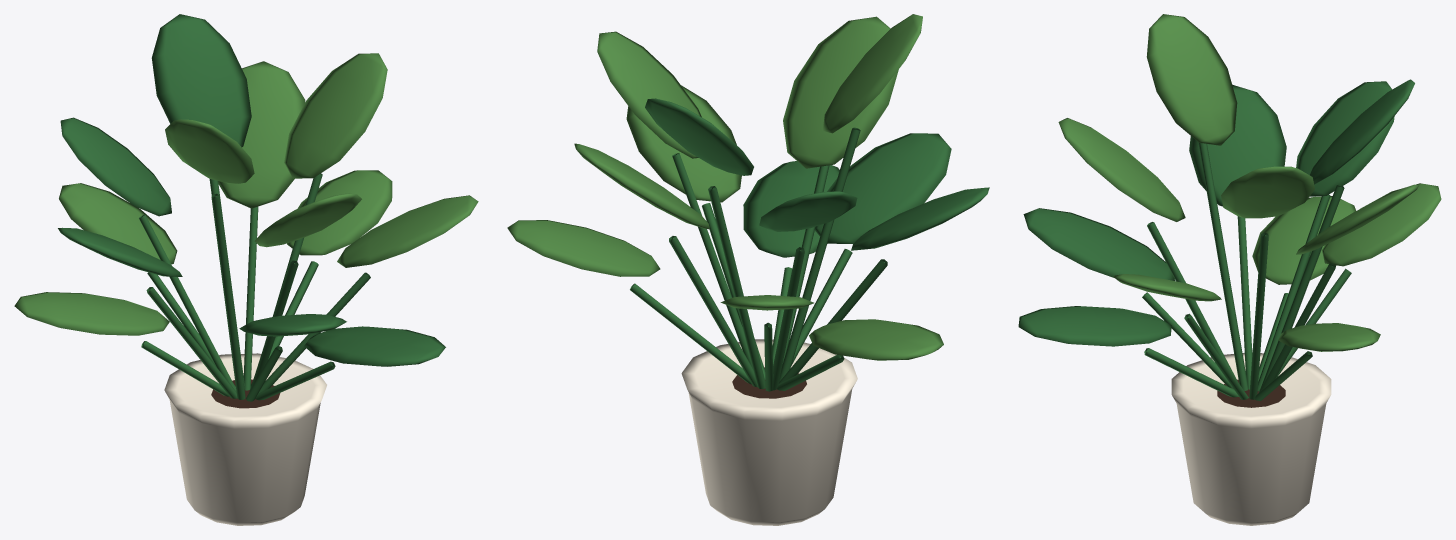
Rendered from plant-leafy.glb.
3 views of the same model, side by side, from view 1: azimuth 30°, elevation 25°; view 2: azimuth 150°, elevation 25°; view 3: azimuth 270°, elevation 25° (orthographic). The views are drawn at different scales.
Visible parts, largest first — view 1: plant-leafy; view 2: plant-leafy; view 3: plant-leafy.
Boxes of the visible parts, left/top/right/bottom form: plant-leafy: left=14, top=14, right=478, bottom=525; plant-leafy: left=507, top=14, right=989, bottom=525; plant-leafy: left=1018, top=14, right=1441, bottom=525.
Size of the model in its own units: 1.26 by 1.4 by 1.21.
